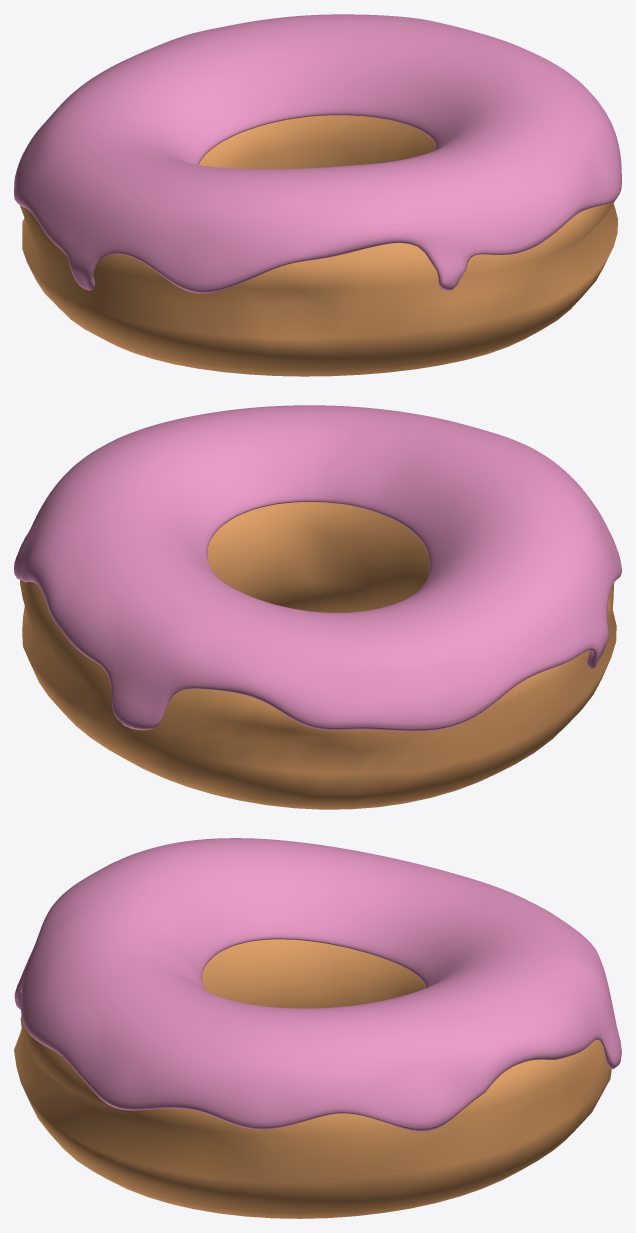
Rendered from Donut.glb.
3 views of the same model, one above another, from view 1: azimuth 30°, elevation 25°; view 2: azimuth 150°, elevation 25°; view 3: azimuth 270°, elevation 25° (orthographic). The views are drawn at different scales.
Parts seen in each view (by area): view 1: Icing, Donut; view 2: Icing, Donut; view 3: Icing, Donut.
Part boxes in pixels (left/top/right/bottom): Icing: left=14, top=14, right=621, bottom=293; Donut: left=20, top=115, right=617, bottom=376; Icing: left=14, top=405, right=621, bottom=731; Donut: left=20, top=502, right=616, bottom=809; Icing: left=14, top=838, right=621, bottom=1131; Donut: left=14, top=939, right=611, bottom=1218.
Bounding box in the file's own units: 0.1523 × 0.0592 × 0.1501.
